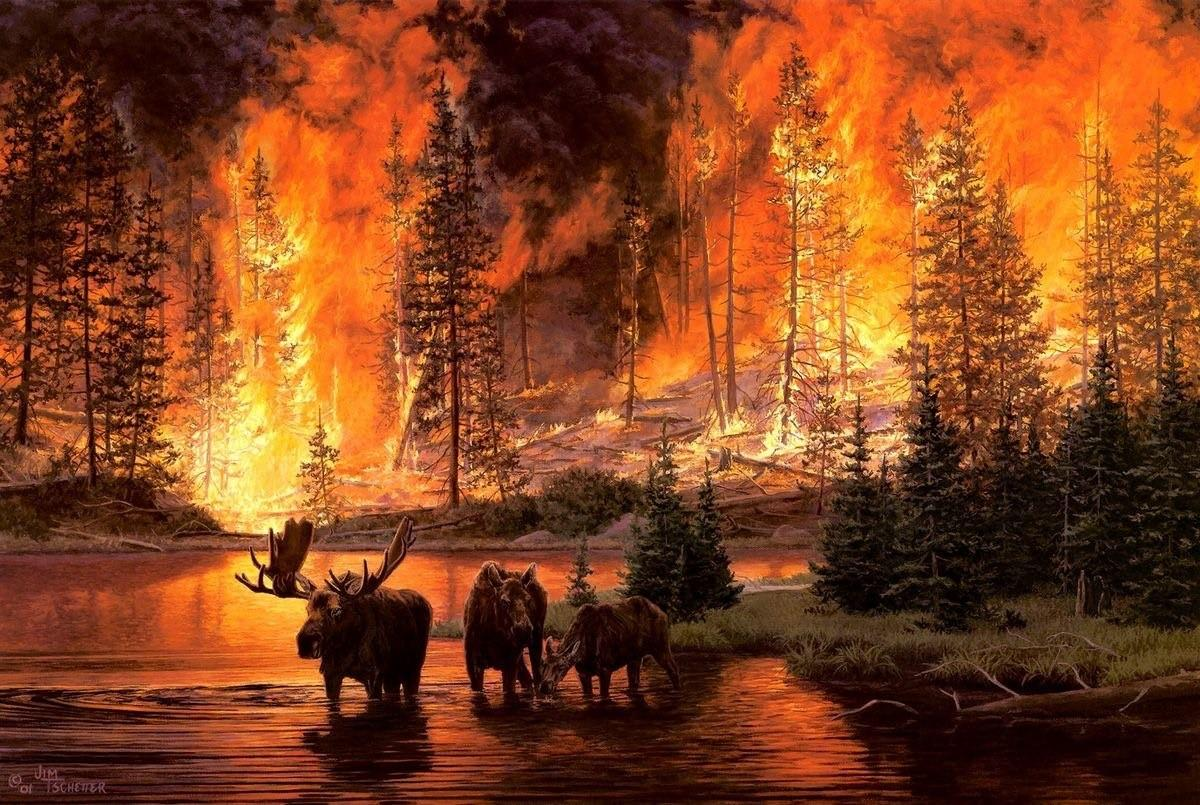fire: (89, 181, 361, 522), (730, 120, 989, 467), (986, 98, 1176, 432), (373, 322, 500, 490), (630, 412, 726, 488)
smoke: (413, 14, 649, 244)
